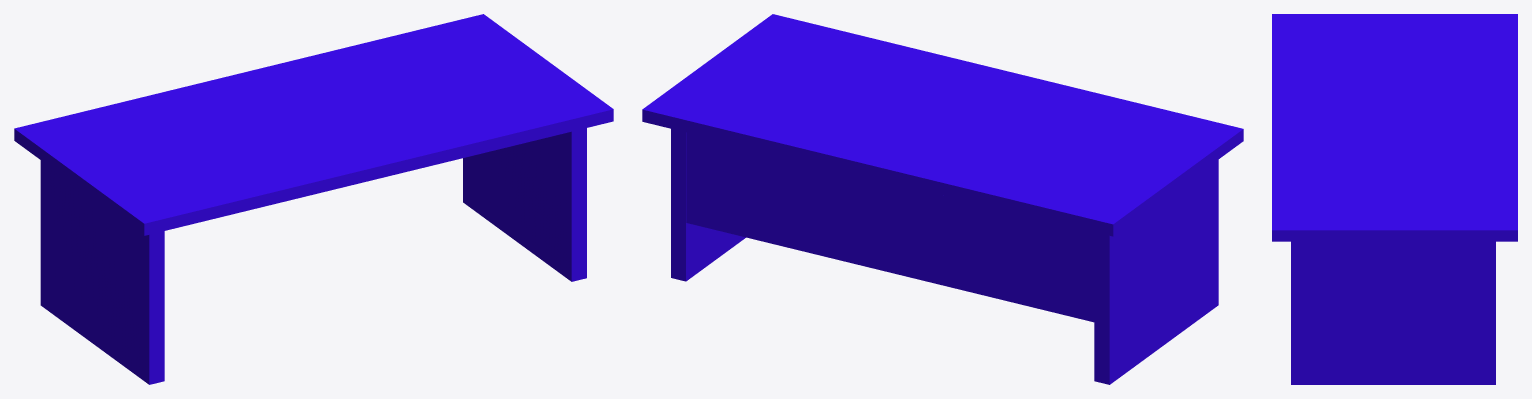
Rendered from office_pack_table_large_1_meshCollider.fbx.
3 renders of one model, left to right at view 1: azimuth 30°, elevation 25°; view 2: azimuth 150°, elevation 25°; view 3: azimuth 270°, elevation 25°, orthographic. The views are drawn at different scales.
Visible parts, largest first — view 1: office_pack_table_large_1_meshCollider; view 2: office_pack_table_large_1_meshCollider; view 3: office_pack_table_large_1_meshCollider.
Boxes of the visible parts, x1,y1,x2,y2 form: office_pack_table_large_1_meshCollider: [14, 14, 613, 384]; office_pack_table_large_1_meshCollider: [642, 14, 1243, 384]; office_pack_table_large_1_meshCollider: [1272, 14, 1517, 384].
Size of the model in its own units: 125 by 43.84 by 60.07.
